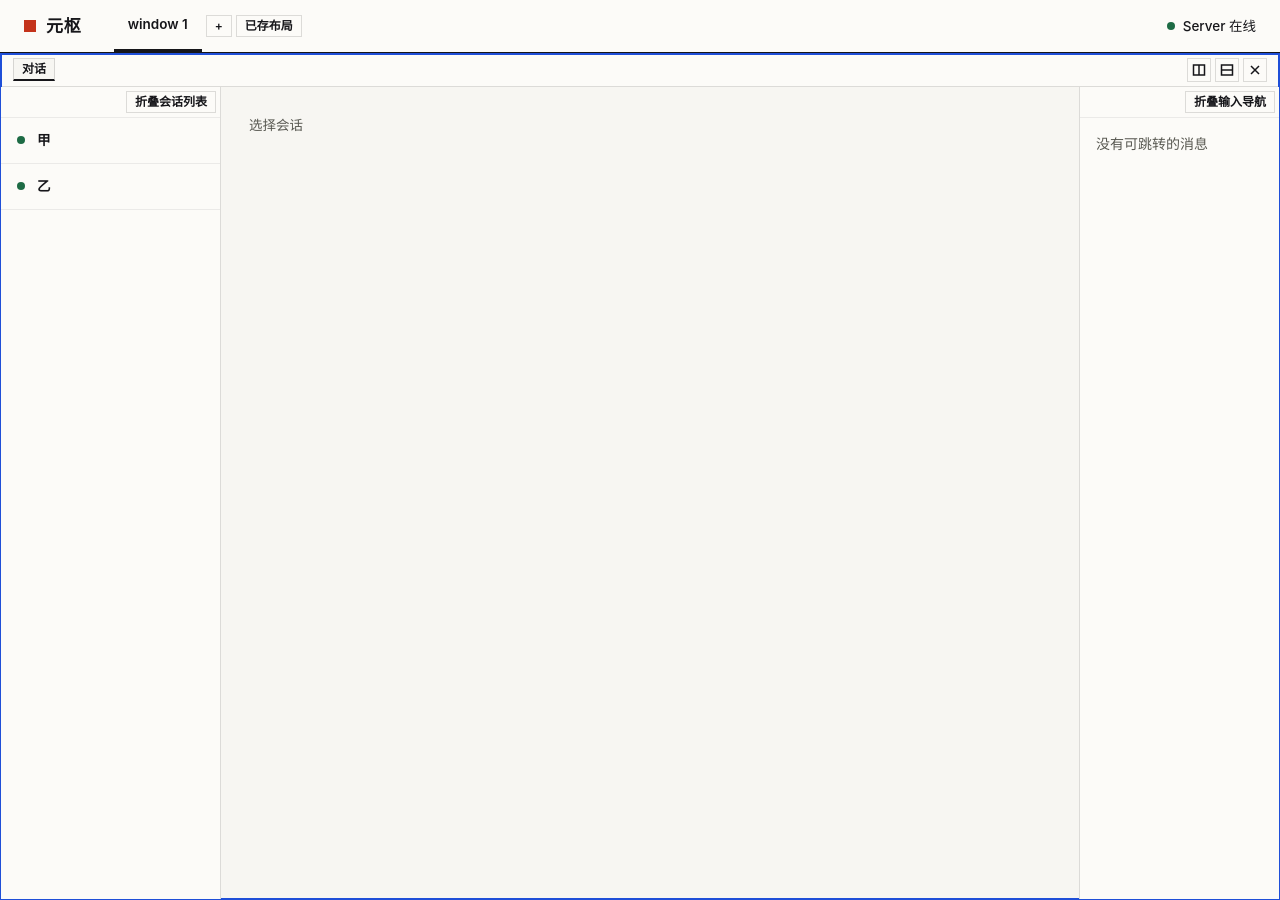
Test: R20 冲突返回的是更高版本文档：以本地覆盖不得覆盖它，转为只读
Click the button named "新建 window" at x=219, y=26, box [206,15,232,37]
Wait 810 ms
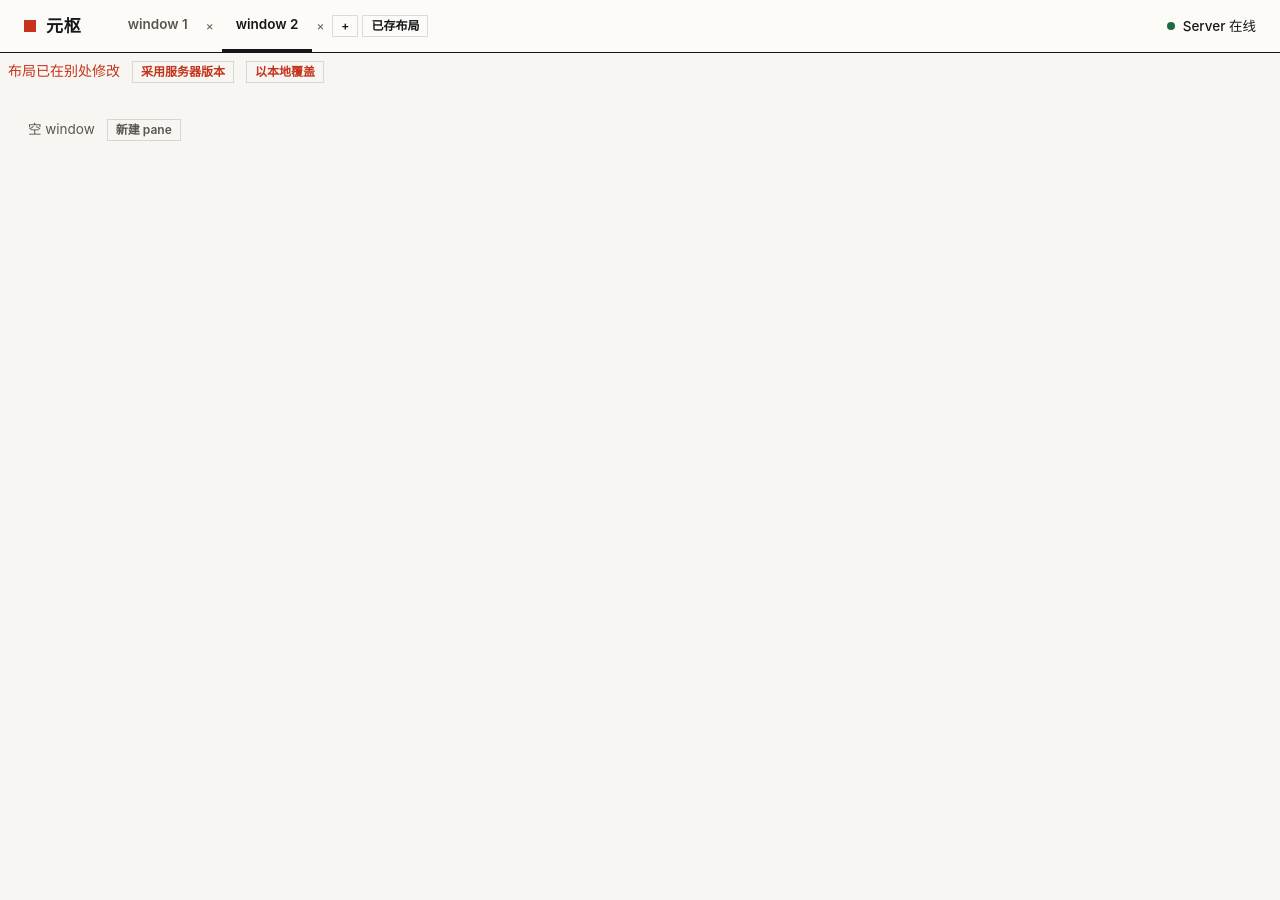
Click the button "以本地覆盖" at x=285, y=72, box [246,61,324,83]
Wait 810 ms
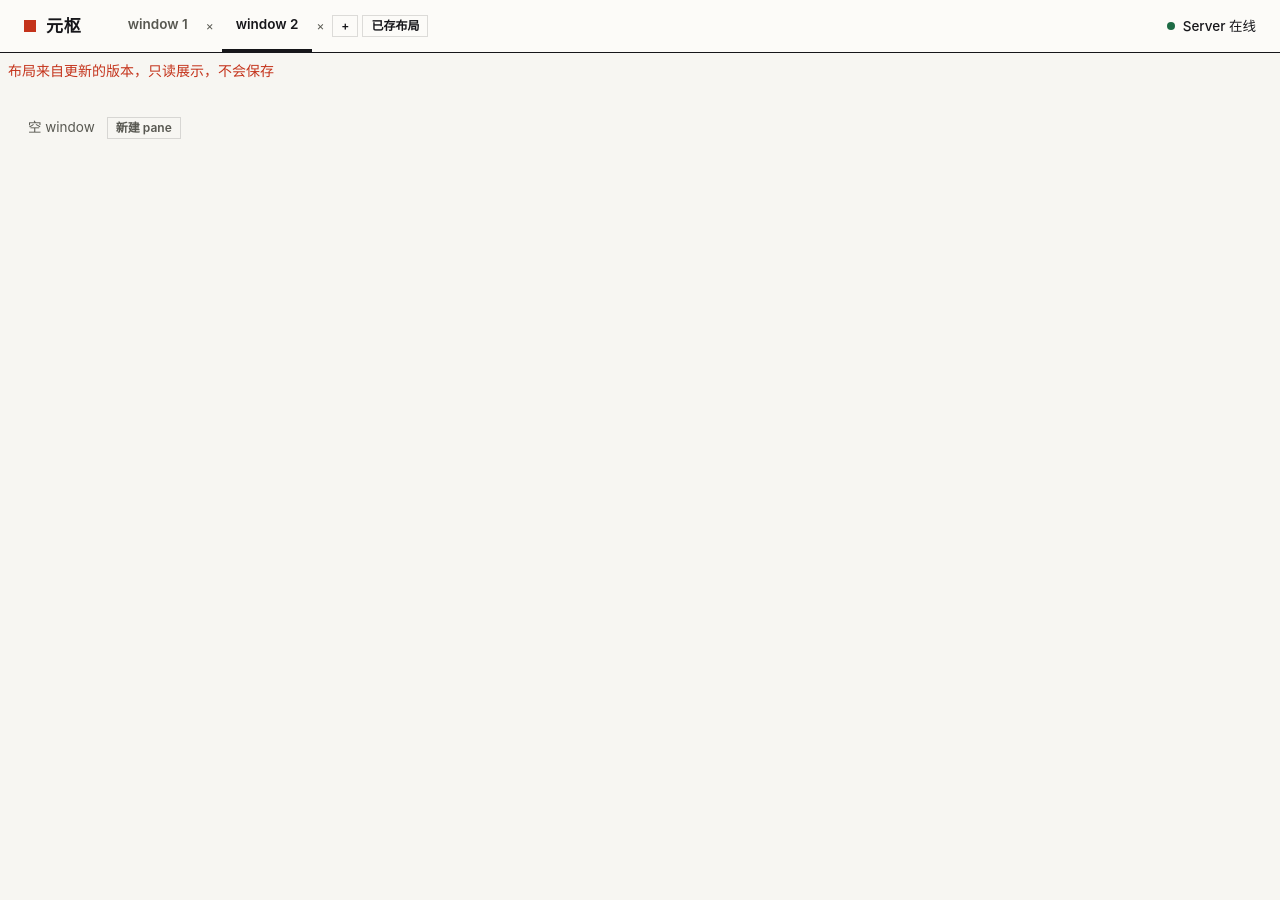
Check: the text "布局来自更新的版本，只读展示，不会保存" is shown, box [8,62,274,79]
